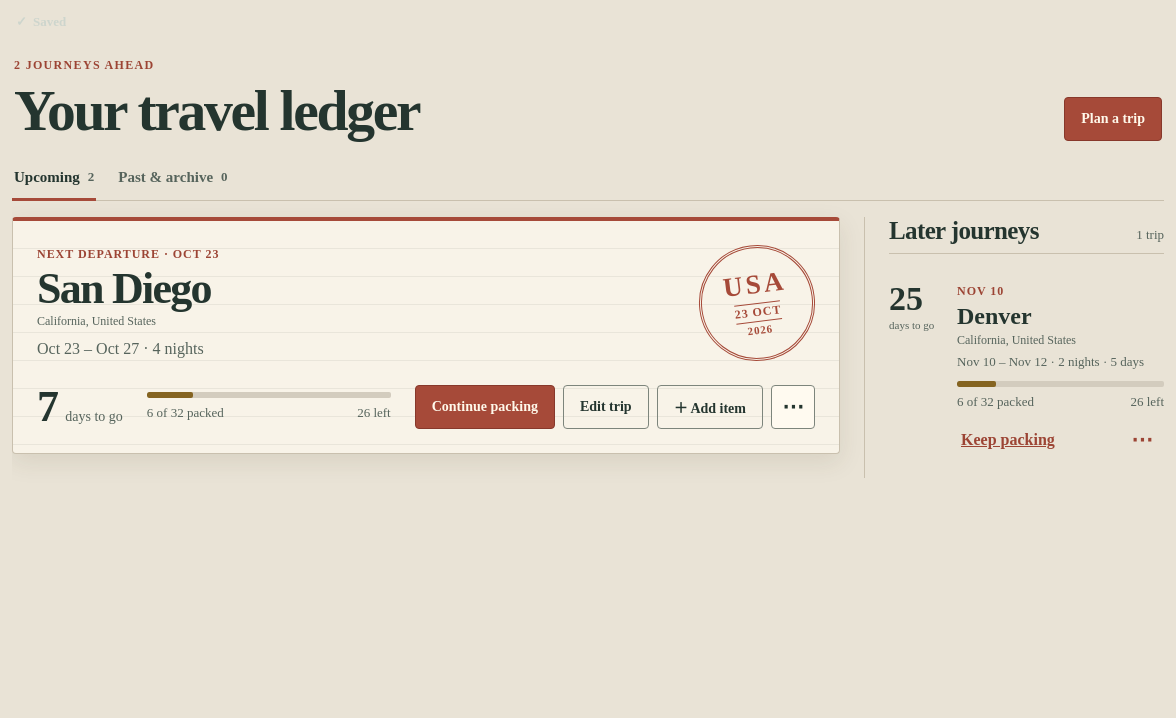
Scenario: the hero and Later journeys › says so when nothing else is planned, and keeps the per-journey actions
The image size is (1176, 718).
Expected: the element "San Diego" is shown, [12,217,840,454]
What coordinates should you click on to do the following:
click the button named "More actions for Denver"
I would click on:
 (1142, 440)
Its box is [1120,418,1164,462].
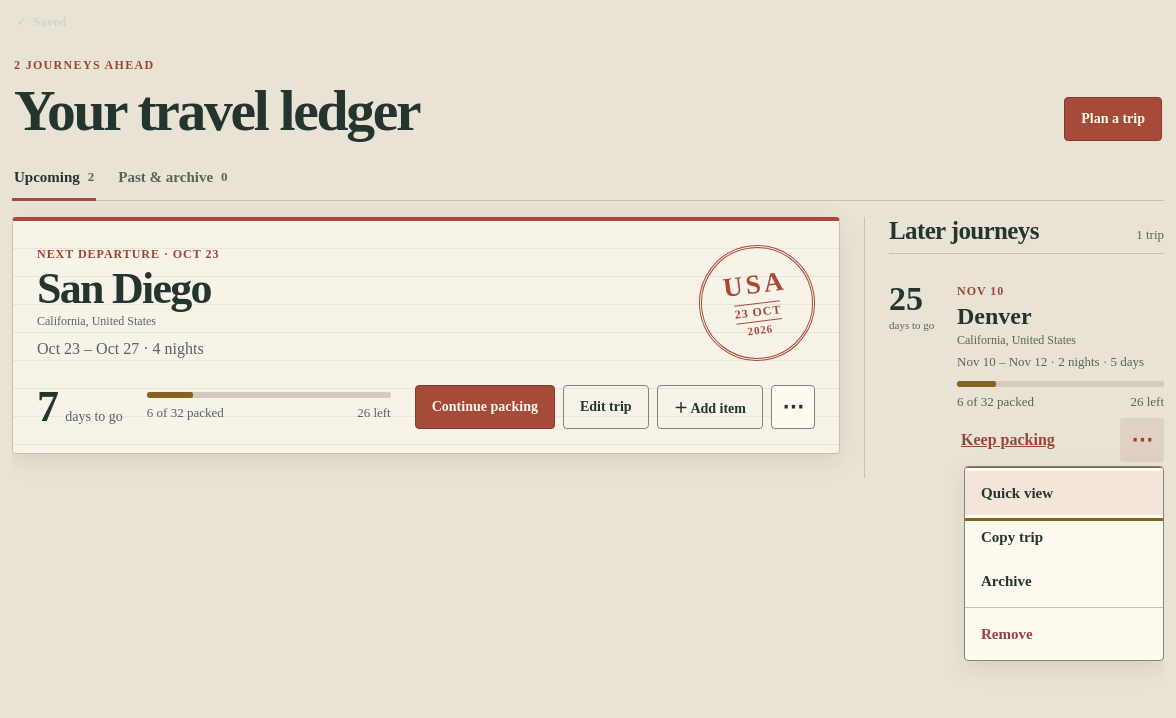
What coordinates should you click on to do the following:
click the menu item "Quick view"
I would click on:
 (1064, 493)
Its box is [965,471,1163,515].
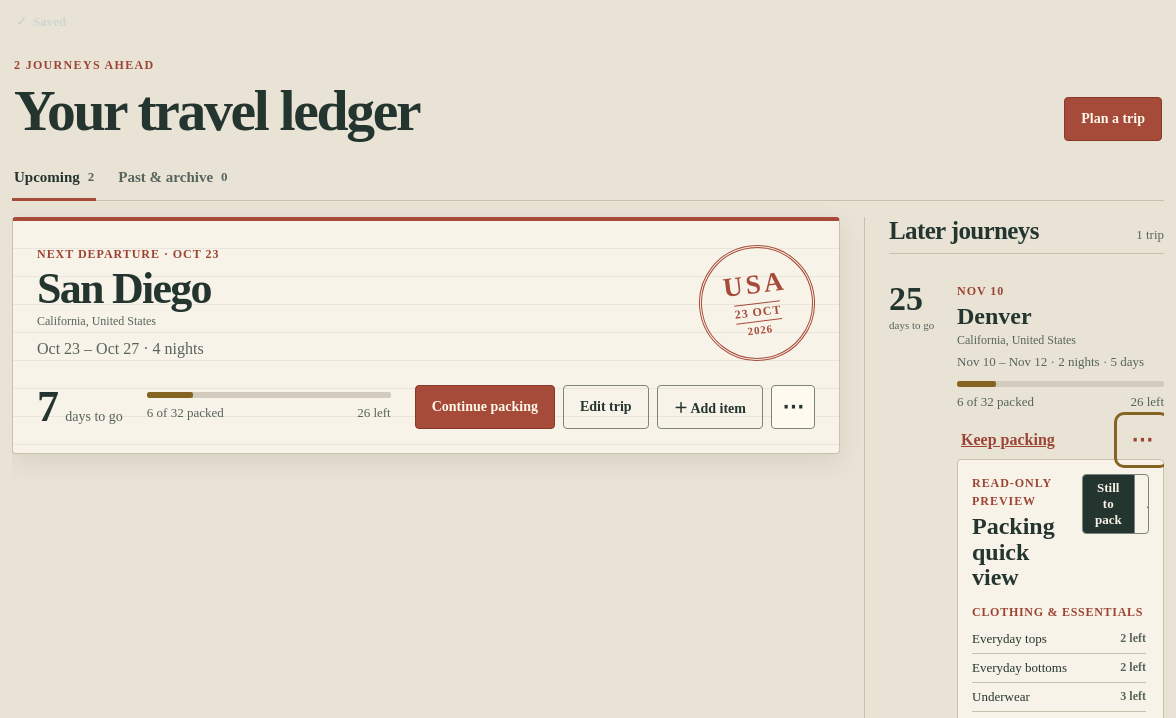
Now the heading "Packing quick view" is shown, box [972,513,1055,590]
What coordinates should you click on to do the following:
click the button named "More actions for Denver"
I would click on:
 (1142, 440)
Its box is [1120,418,1164,462].
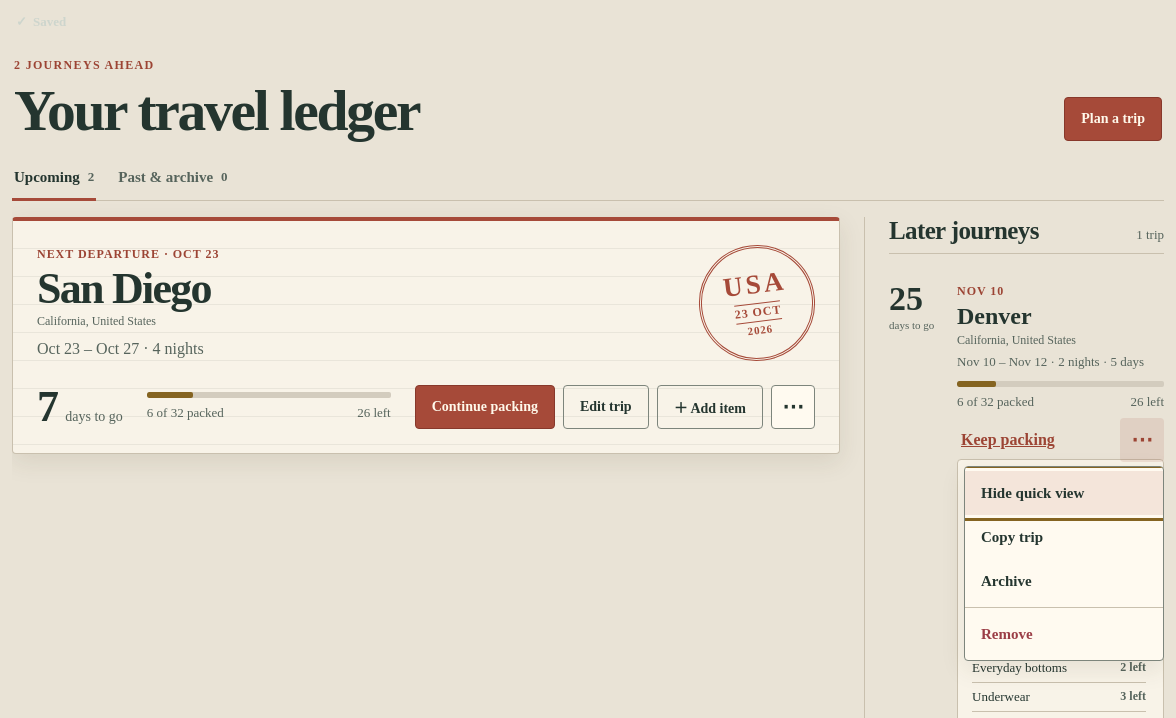
What coordinates should you click on to do the following:
click the menu item "Archive"
I would click on:
 (1064, 581)
Its box is [965,559,1163,603].
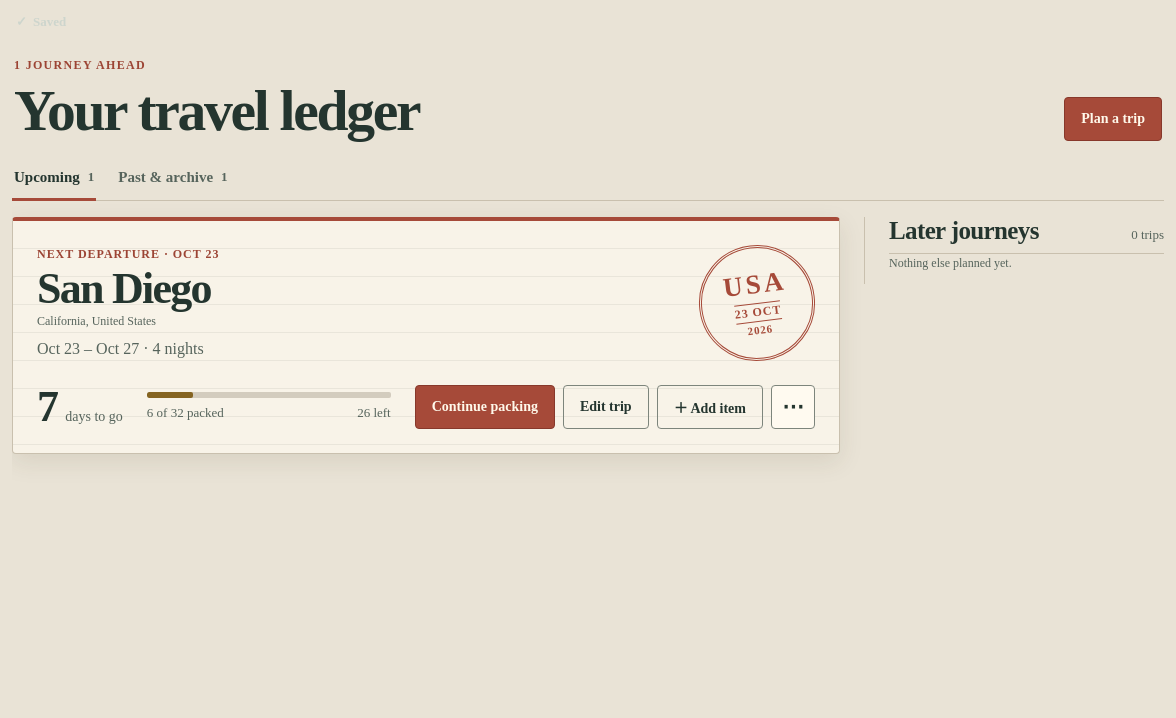
Now the text "Nothing else planned yet." is shown, box [889,256,1012,270]
